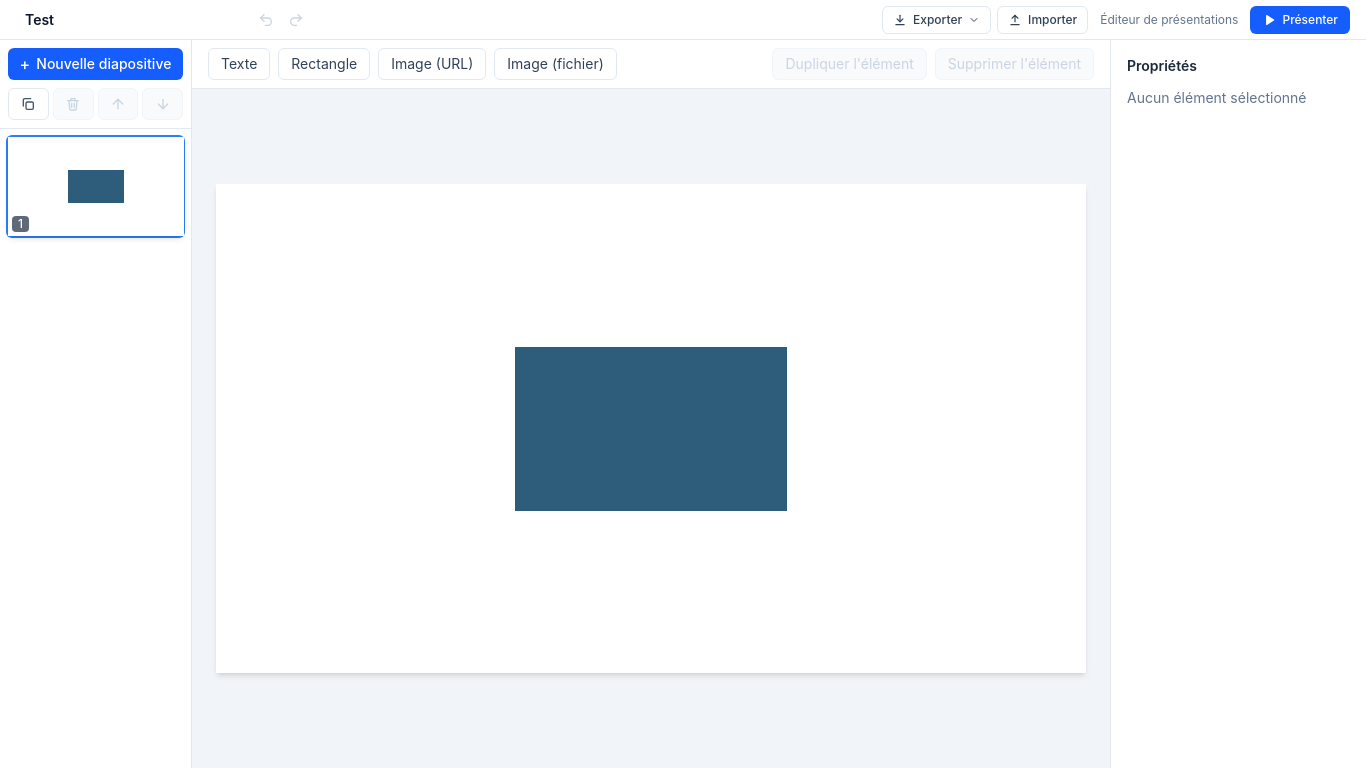
Scenario: EditorLayout : limite d'éléments par diapositive › désactive les ajouts et la duplication à la limite, avec une infobulle
The width and height of the screenshot is (1366, 768).
Click the button "Rectangle" at (324, 64), box [278, 48, 370, 80]
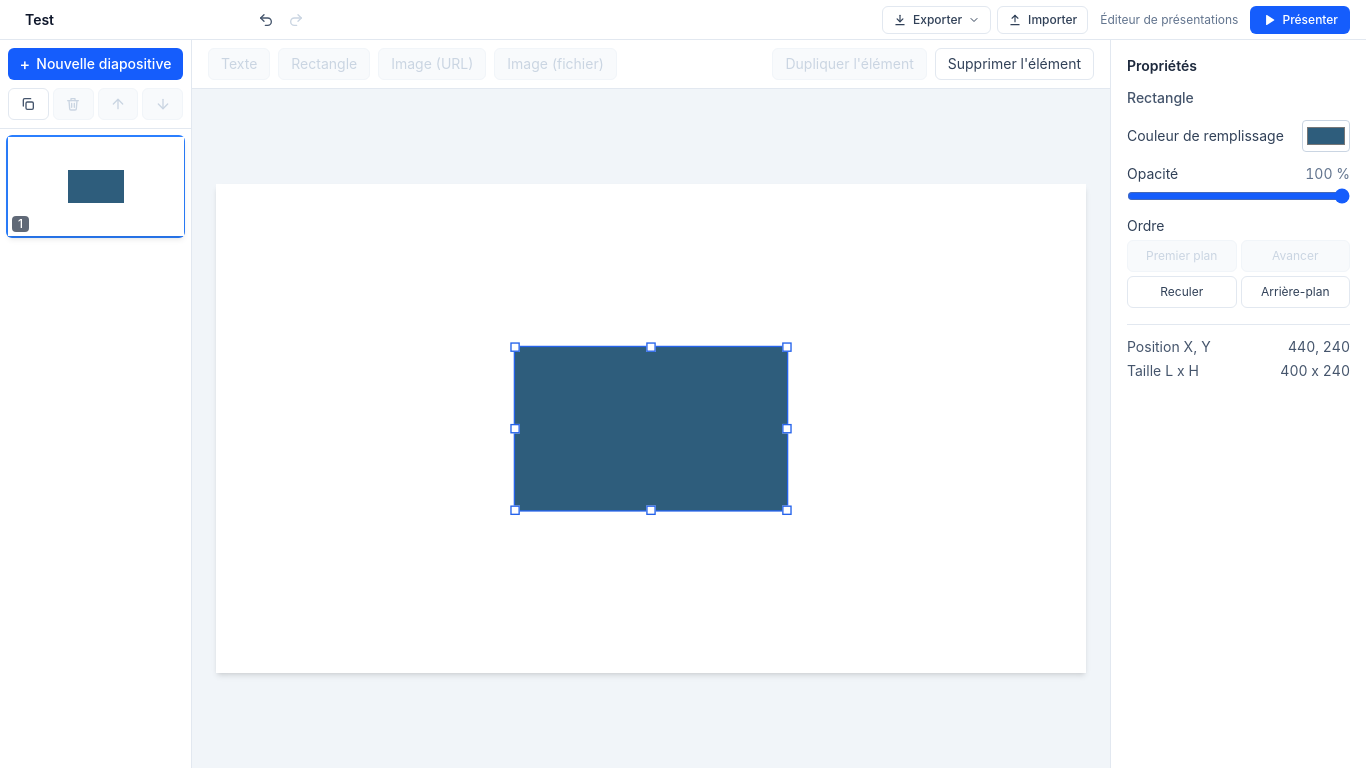
Expected: the button "Texte" is disabled, [208, 48, 270, 80]
Expected: the button "Rectangle" is disabled, [278, 48, 370, 80]
Expected: the button "Image (URL)" is disabled, [378, 48, 486, 80]
